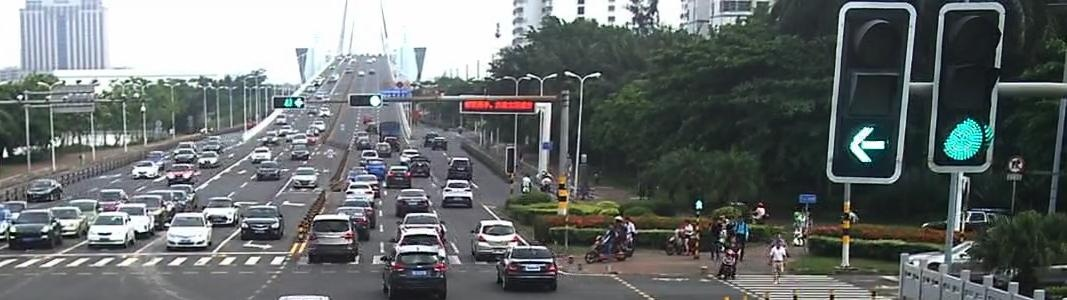green: (939, 119, 992, 162), (370, 95, 380, 108)
greenleft: (843, 122, 892, 168), (295, 95, 304, 107)
greenpeople: (693, 197, 705, 211)
greentime: (280, 95, 296, 110)
